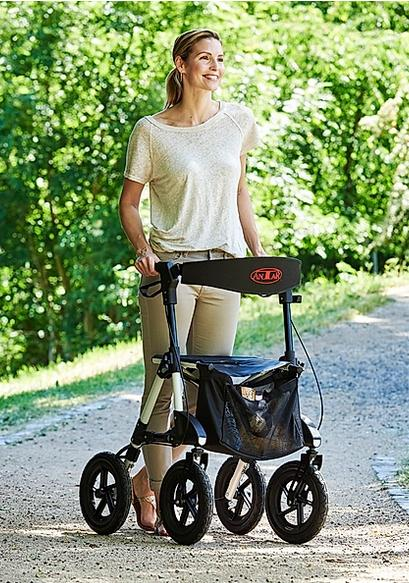walking_frame: (79, 29, 330, 545)
